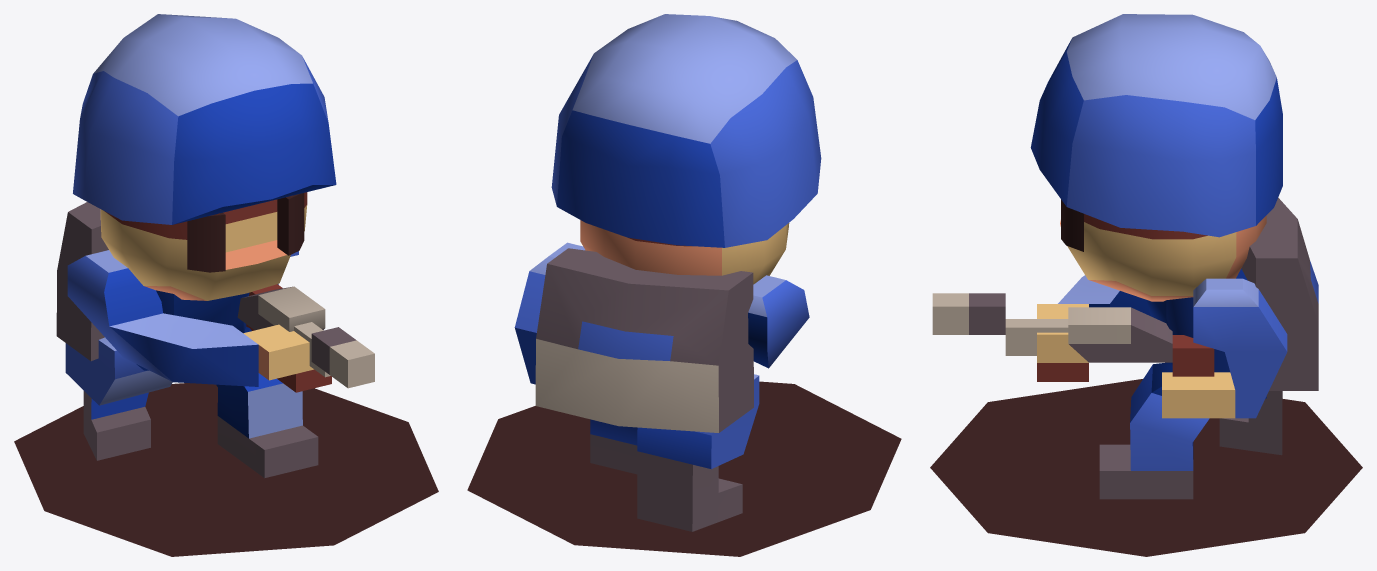
File: InfantryMesh.CobaltIce.glb
The picture shows the model from 3 angles, left to right: view 1: azimuth 30°, elevation 25°; view 2: azimuth 150°, elevation 25°; view 3: azimuth 270°, elevation 25°; orthographic projection. The views are drawn at different scales.
Parts seen in each view (by area): view 1: InfantryMesh.CobaltIce; view 2: InfantryMesh.CobaltIce; view 3: InfantryMesh.CobaltIce.
Part boxes in pixels (bbox=[...]): InfantryMesh.CobaltIce: bbox=[14, 14, 438, 556]; InfantryMesh.CobaltIce: bbox=[467, 14, 901, 556]; InfantryMesh.CobaltIce: bbox=[930, 14, 1362, 556].
Bounding box in the file's own units: 2.03 × 2.3 × 2.07.
Materials: 1 (1 with a texture image).
